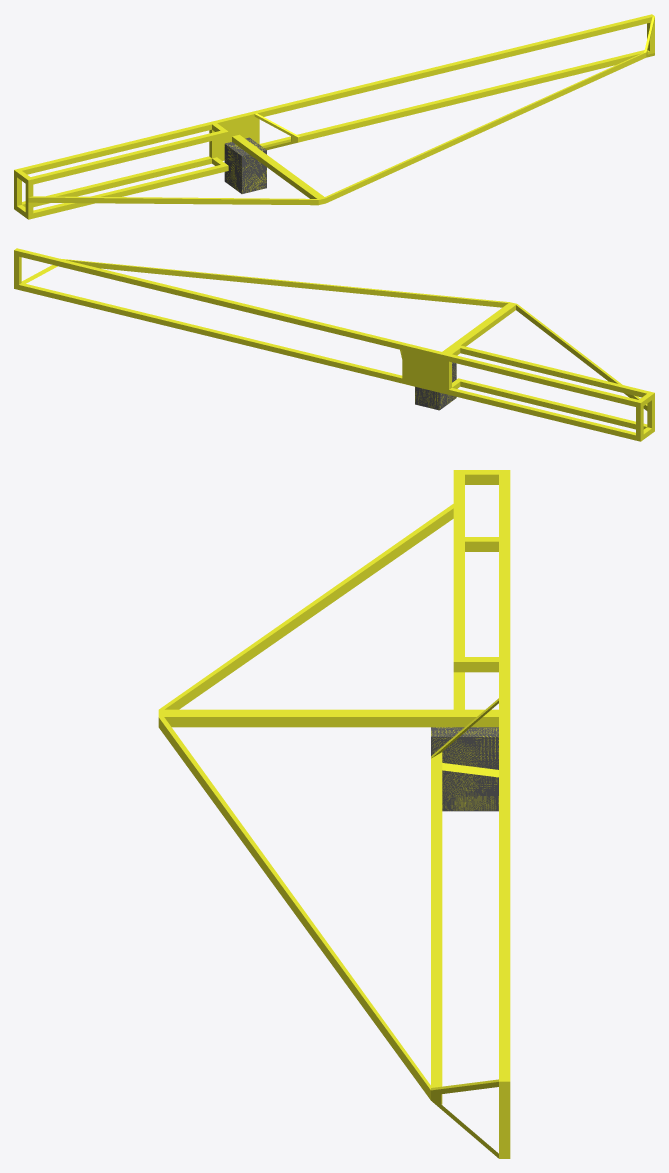
Rendered from crane_part_1.dae.
The picture shows the model from 3 angles, top to bottom: view 1: azimuth 30°, elevation 25°; view 2: azimuth 150°, elevation 25°; view 3: azimuth 270°, elevation 25°; orthographic projection. The views are drawn at different scales.
Parts seen in each view (by area): view 1: coords_ME_ID3_MA_material_3, coords_ME_ID17_MA__96_96_96, coords_ME_ID17_MA_material_3; view 2: coords_ME_ID3_MA_material_3, coords_ME_ID11_MA_material_3, coords_ME_ID17_MA__96_96_96; view 3: coords_ME_ID3_MA_material_3, coords_ME_ID17_MA__96_96_96, coords_ME_ID17_MA_material_3.
Part boxes in pixels (left/top/right/bottom): coords_ME_ID3_MA_material_3: left=14, top=14, right=654, bottom=219; coords_ME_ID17_MA__96_96_96: left=224, top=137, right=266, bottom=193; coords_ME_ID17_MA_material_3: left=224, top=139, right=266, bottom=193; coords_ME_ID3_MA_material_3: left=14, top=248, right=654, bottom=441; coords_ME_ID11_MA_material_3: left=19, top=256, right=402, bottom=378; coords_ME_ID17_MA__96_96_96: left=415, top=362, right=456, bottom=410; coords_ME_ID3_MA_material_3: left=158, top=470, right=510, bottom=1158; coords_ME_ID17_MA__96_96_96: left=431, top=727, right=498, bottom=811; coords_ME_ID17_MA_material_3: left=431, top=727, right=498, bottom=810.
Size of the model in its own units: 439 by 39.62 by 107.
